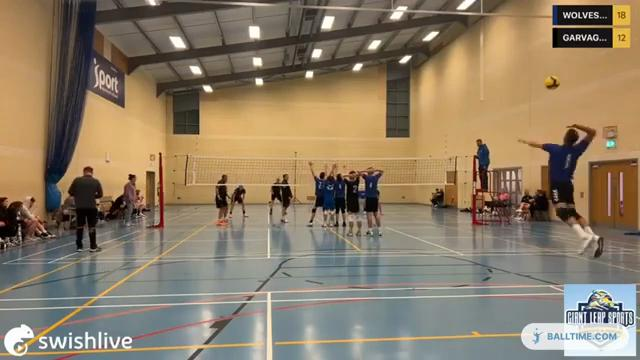battuta: (516, 120, 612, 265)
